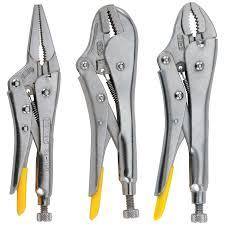pliers: (151, 0, 218, 224), (75, 2, 138, 224), (4, 2, 61, 224)
